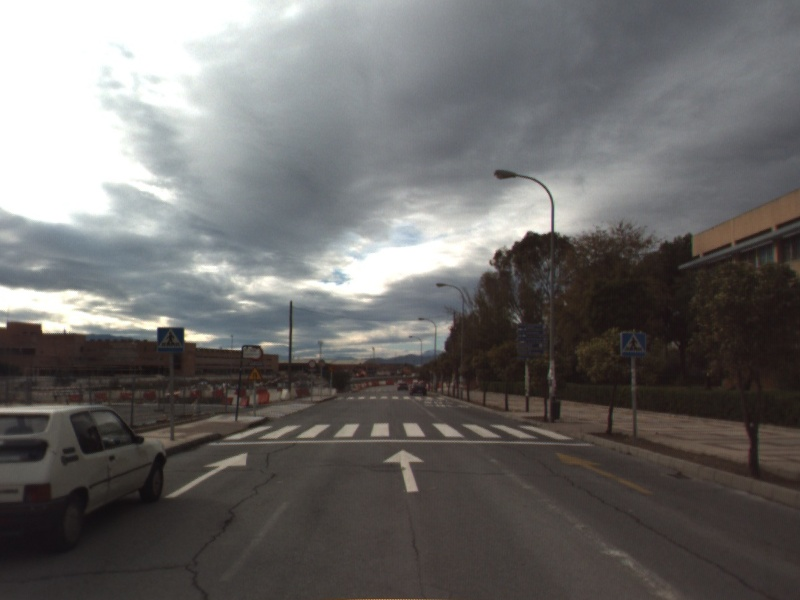STRAIGHT: (554, 450, 655, 496), (162, 450, 249, 500), (381, 447, 427, 494)
